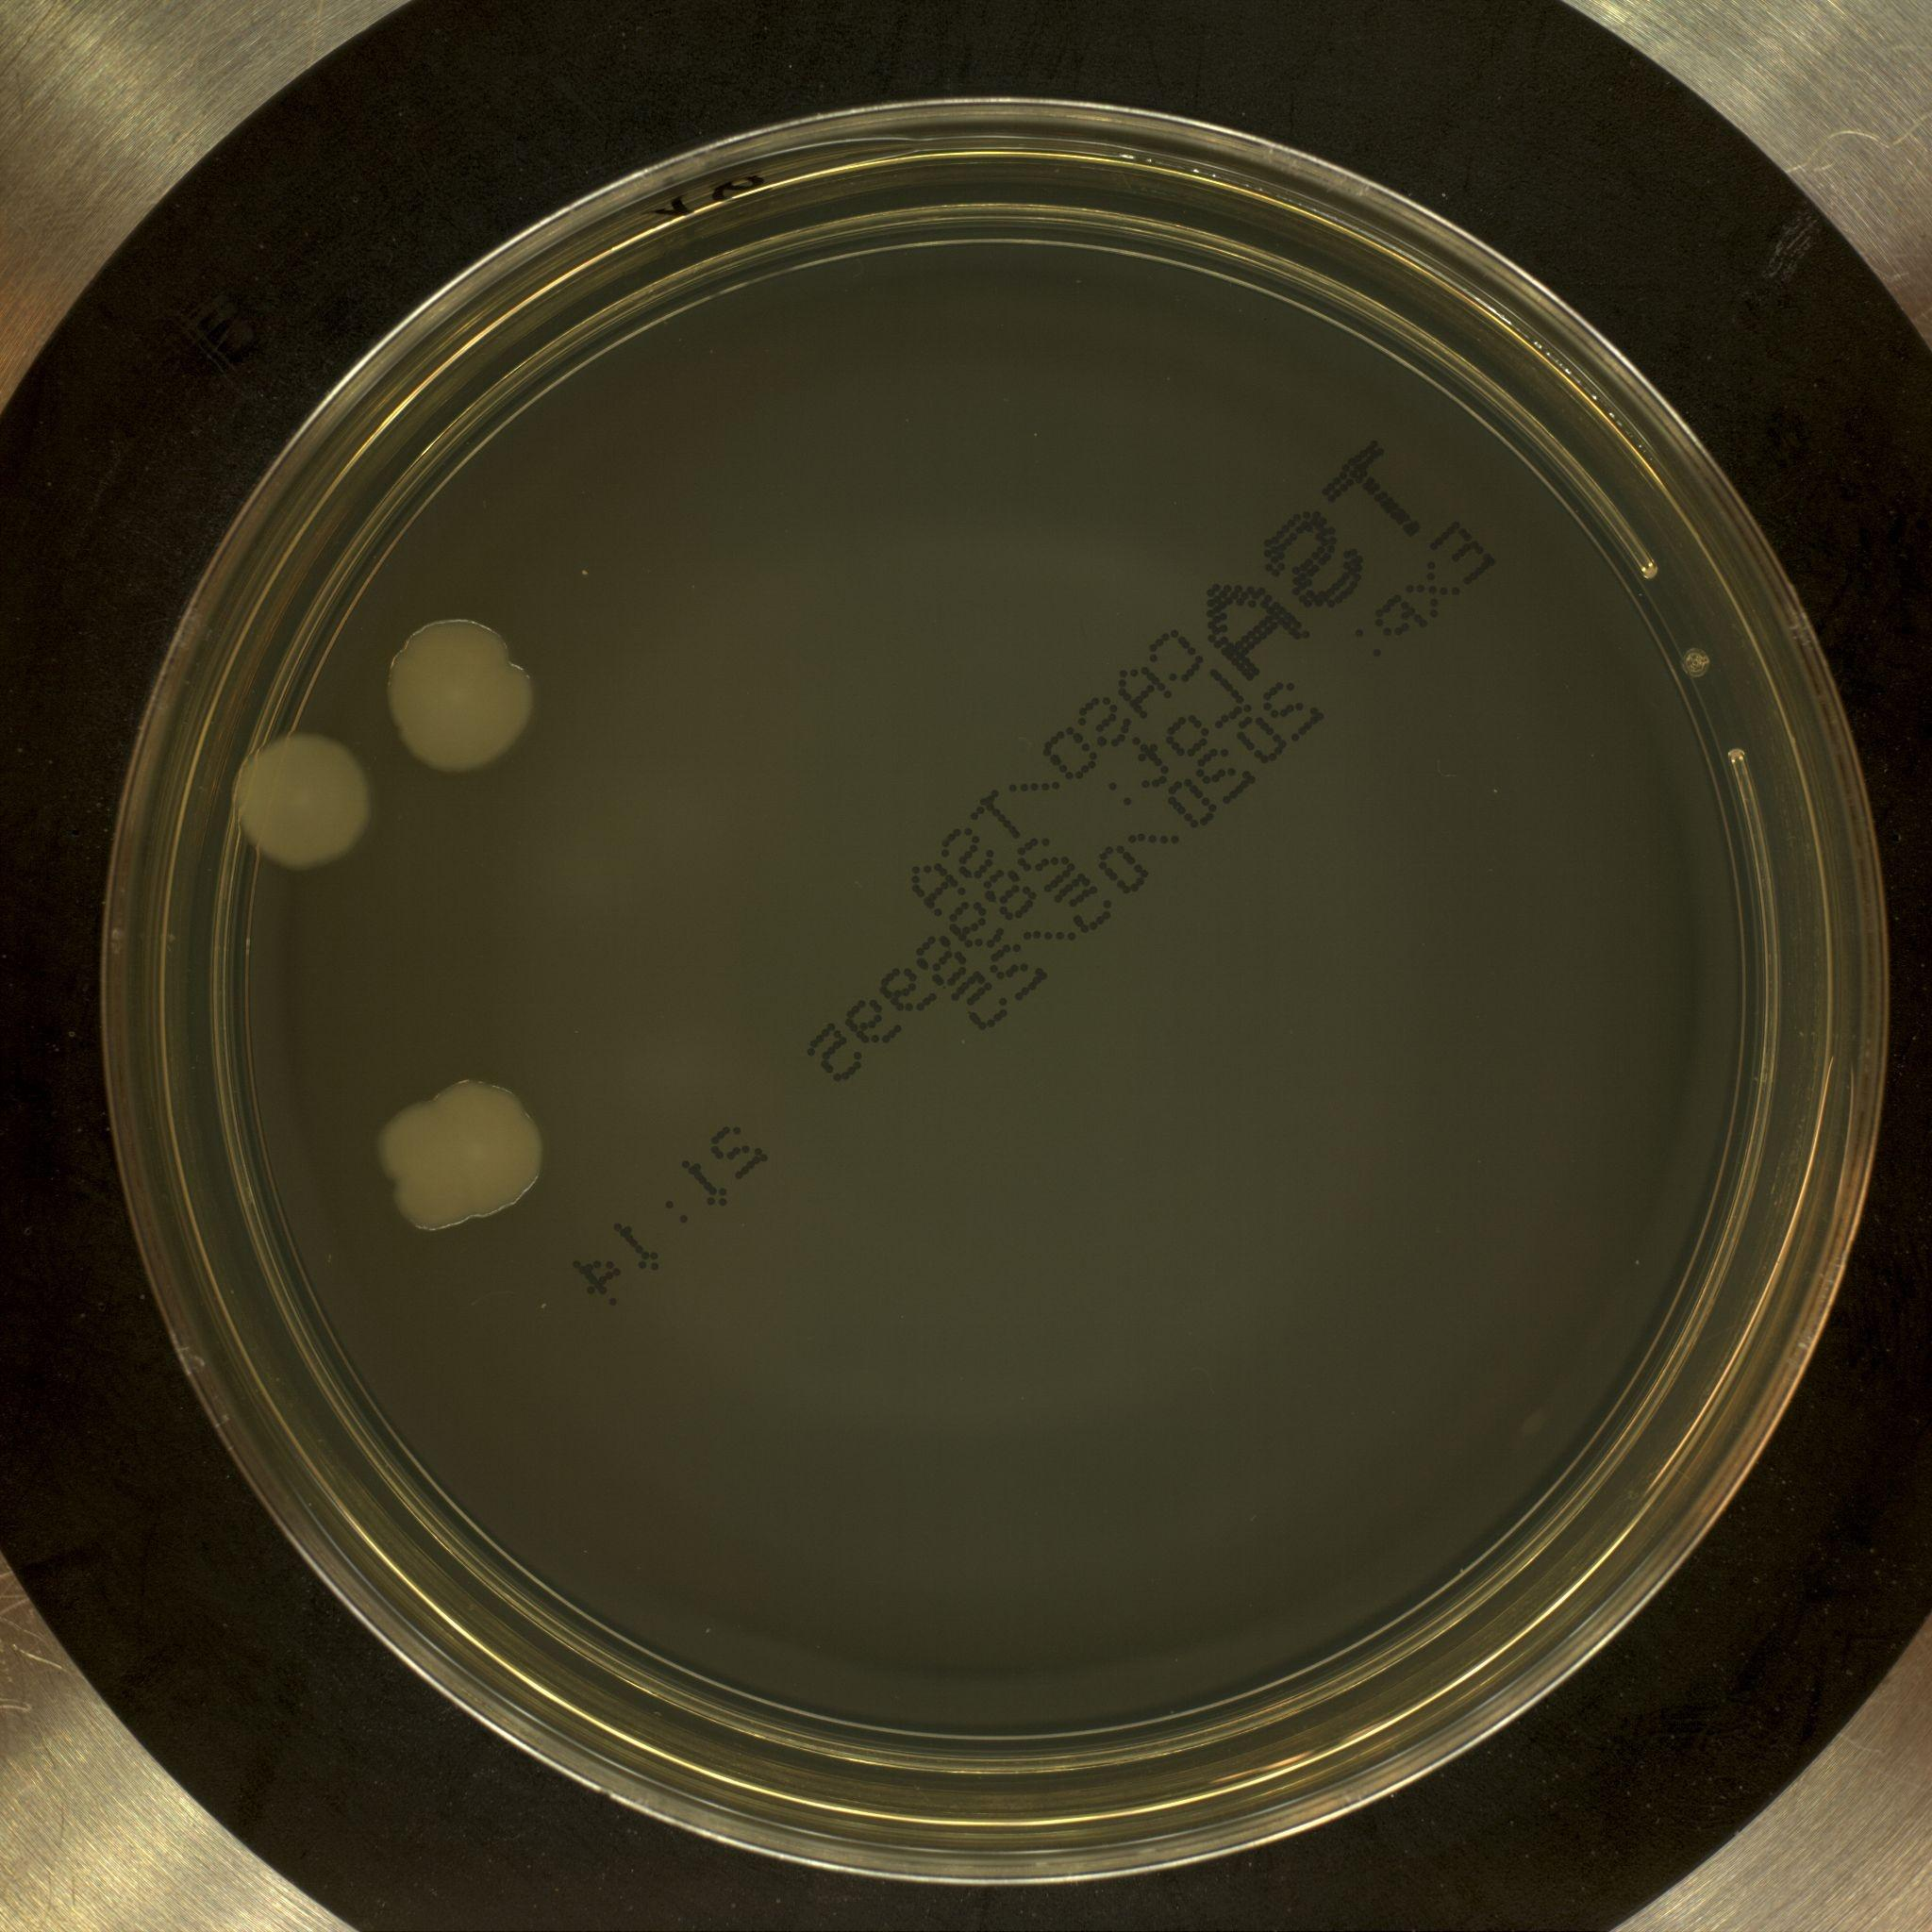e. coli: (370, 1067, 568, 1246), (384, 609, 545, 778), (228, 722, 379, 878)
